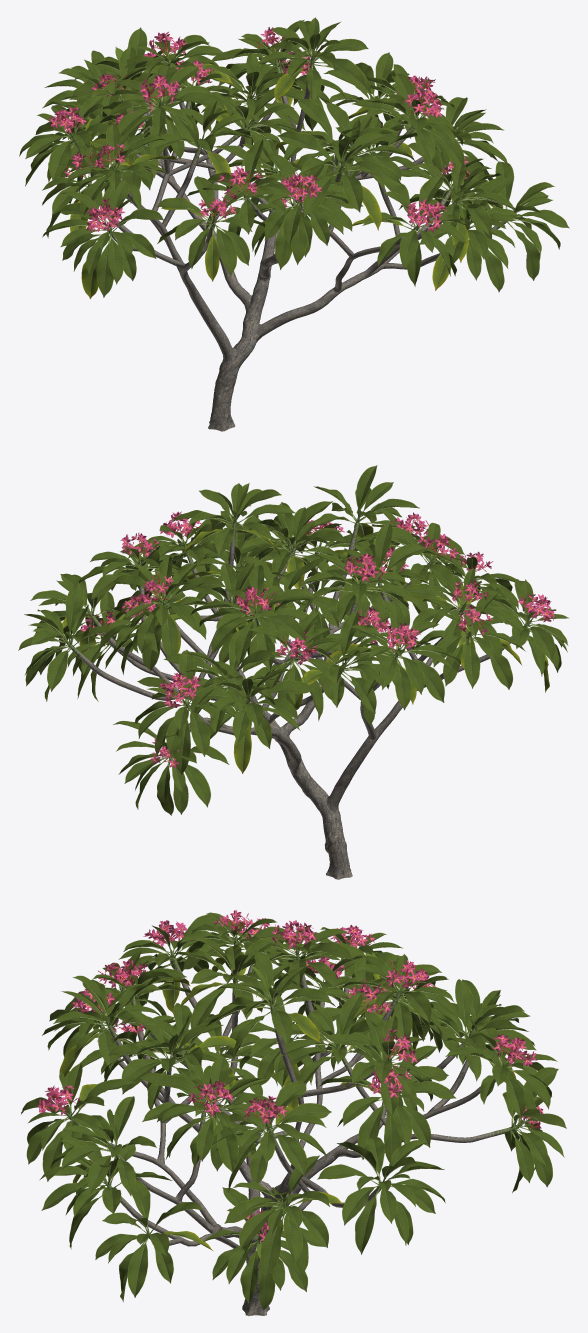
File: plantcatalog_frangipani_13of50.glb
The picture shows the model from 3 angles, top to bottom: view 1: azimuth 30°, elevation 25°; view 2: azimuth 150°, elevation 25°; view 3: azimuth 270°, elevation 25°; orthographic projection. The views are drawn at different scales.
Parts seen in each view (by area): view 1: Plumeria_rubra_pink_HD; view 2: Plumeria_rubra_pink_HD; view 3: Plumeria_rubra_pink_HD.
Boxes of the visible parts, x1,y1,x2,y2 form: Plumeria_rubra_pink_HD: (19, 17, 569, 431); Plumeria_rubra_pink_HD: (18, 465, 569, 879); Plumeria_rubra_pink_HD: (21, 910, 566, 1316).
Bounding box in the file's own units: 3.89 × 2.77 × 3.54.
Materials: 9 (9 with a texture image).
